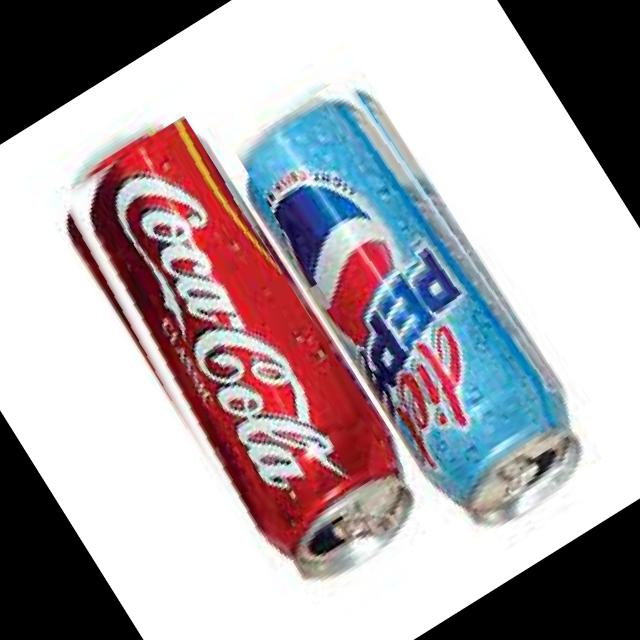Cans: (33, 114, 426, 597), (230, 64, 600, 528)
